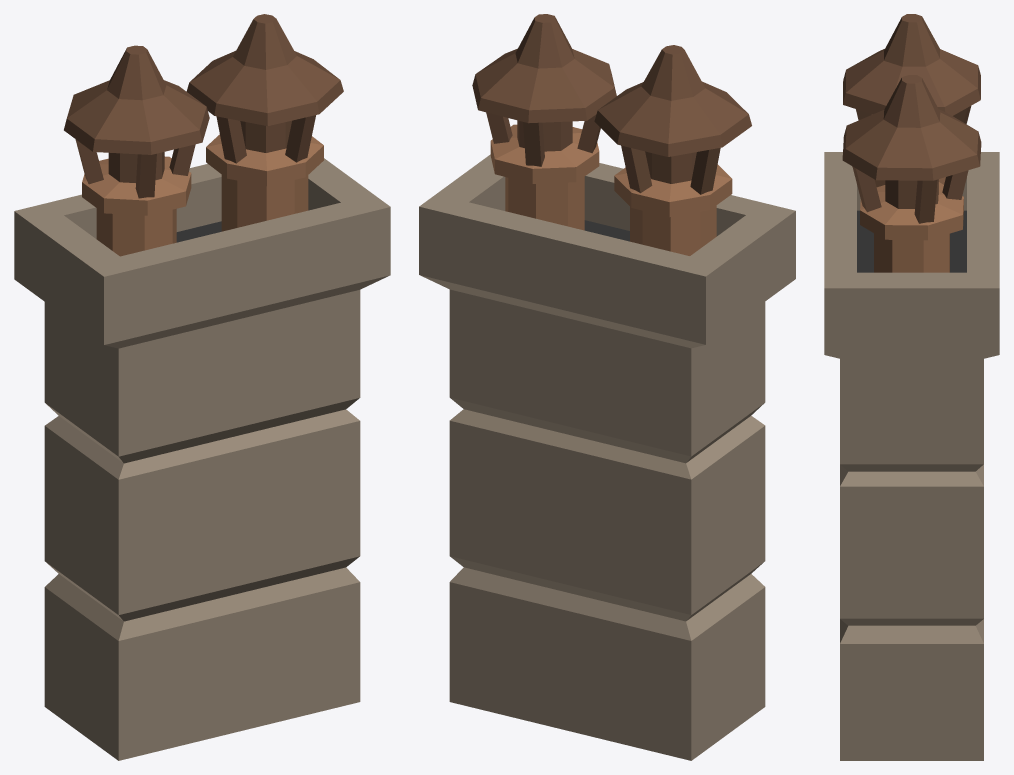
File: SM_Prop_Chimney_02.glb
3 views of the same model, side by side, from view 1: azimuth 30°, elevation 25°; view 2: azimuth 150°, elevation 25°; view 3: azimuth 270°, elevation 25° (orthographic). The views are drawn at different scales.
Visible parts, largest first — view 1: SM_Prop_Chimney_02_part00; view 2: SM_Prop_Chimney_02_part00; view 3: SM_Prop_Chimney_02_part00.
Boxes of the visible parts, box(x1,y1,x2,y2) form: SM_Prop_Chimney_02_part00: box(14, 14, 390, 760); SM_Prop_Chimney_02_part00: box(419, 14, 795, 760); SM_Prop_Chimney_02_part00: box(824, 14, 999, 760).
Bounding box in the file's own units: 0.9614 × 2.15 × 0.5223.
1 material, 1 textured.
